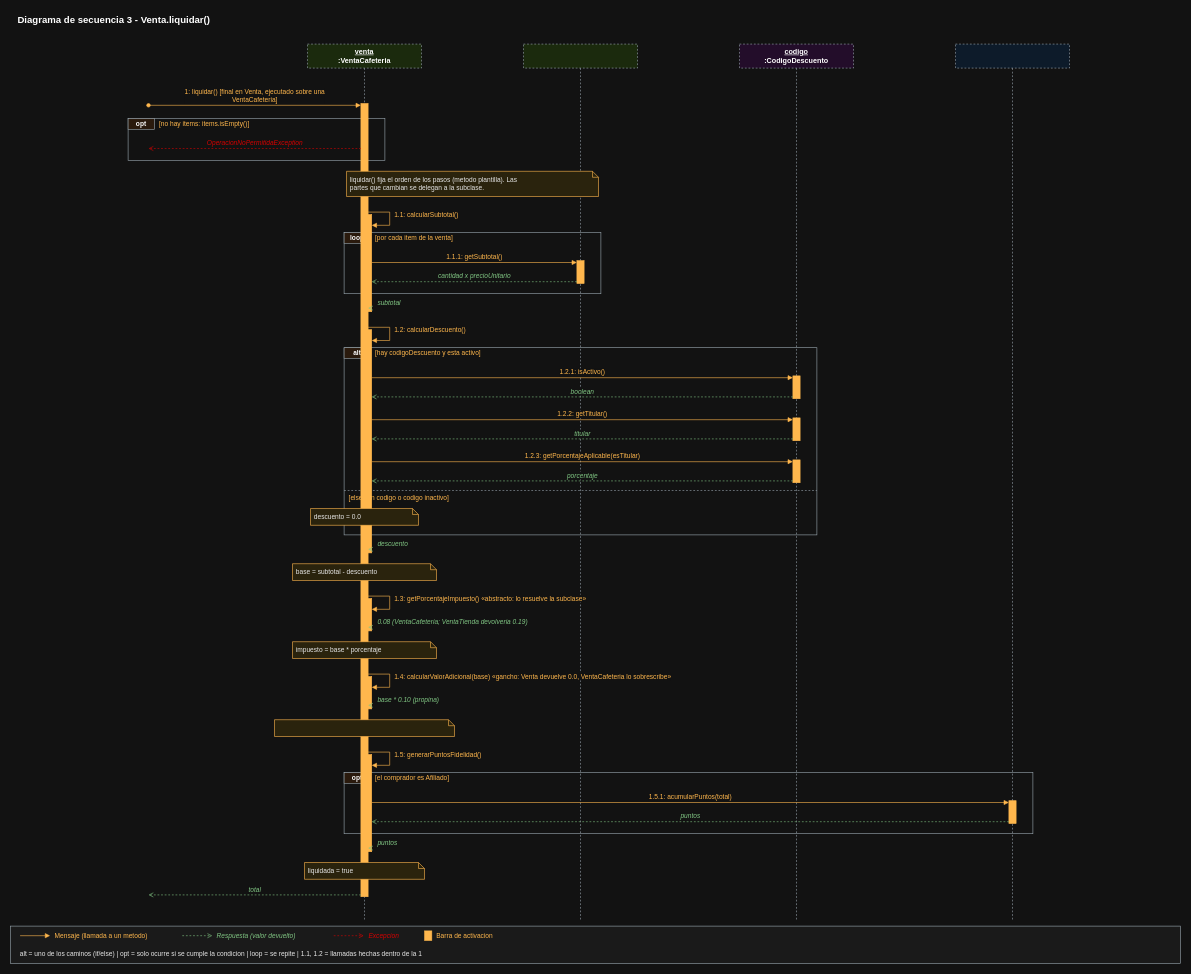
Image size: 1191x974. Some labels were removed from this diagram. Here are the shapes that lost their labels. From the top down, the box of each, then its label:
(523, 44, 638, 921): item :ItemVenta
(955, 44, 1070, 921): afiliado :Afiliado
(274, 719, 454, 736): total = base + impuesto + valorAdicional
